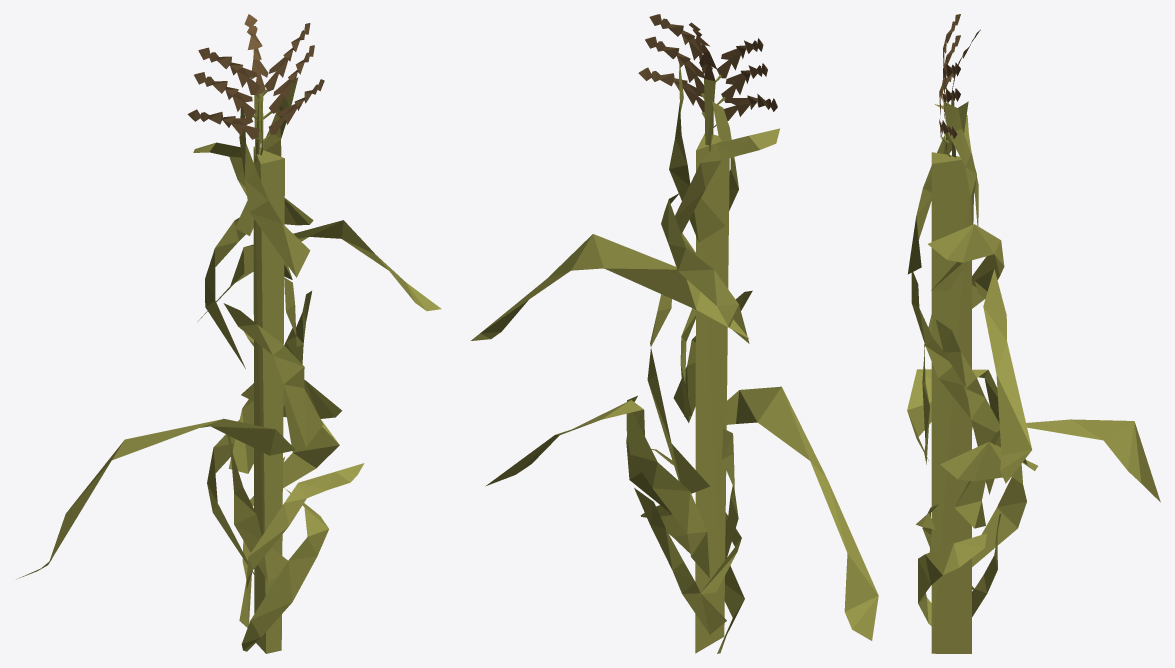
The model's file is Corn_6.fbx.
3 views of the same model, side by side, from view 1: azimuth 30°, elevation 25°; view 2: azimuth 150°, elevation 25°; view 3: azimuth 270°, elevation 25° (orthographic).
Visible parts, largest first — view 1: Corn_6; view 2: Corn_6; view 3: Corn_6.
Boxes of the visible parts, x1,y1,x2,y2 form: Corn_6: (16, 14, 441, 653); Corn_6: (471, 14, 878, 653); Corn_6: (907, 14, 1160, 653).
Size of the model in its own units: 154 by 224 by 82.46.
